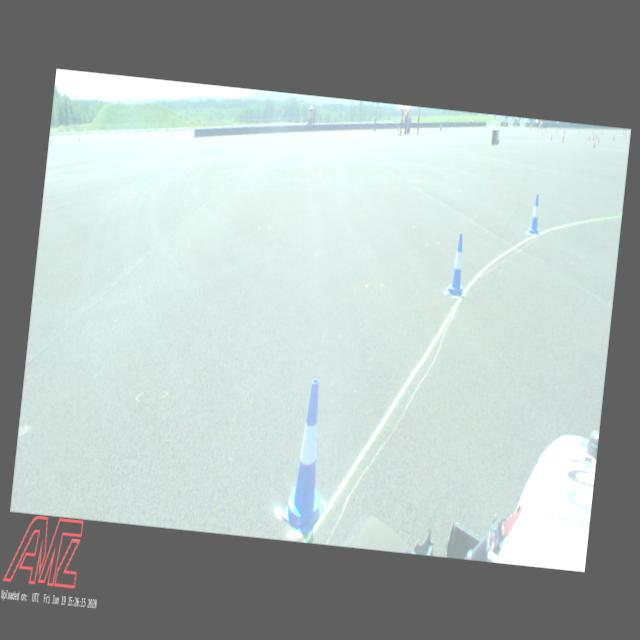blue_cone: (279, 378, 337, 534), (446, 233, 468, 296), (528, 194, 542, 233)
unknown_cone: (593, 138, 595, 146), (562, 136, 564, 142)
